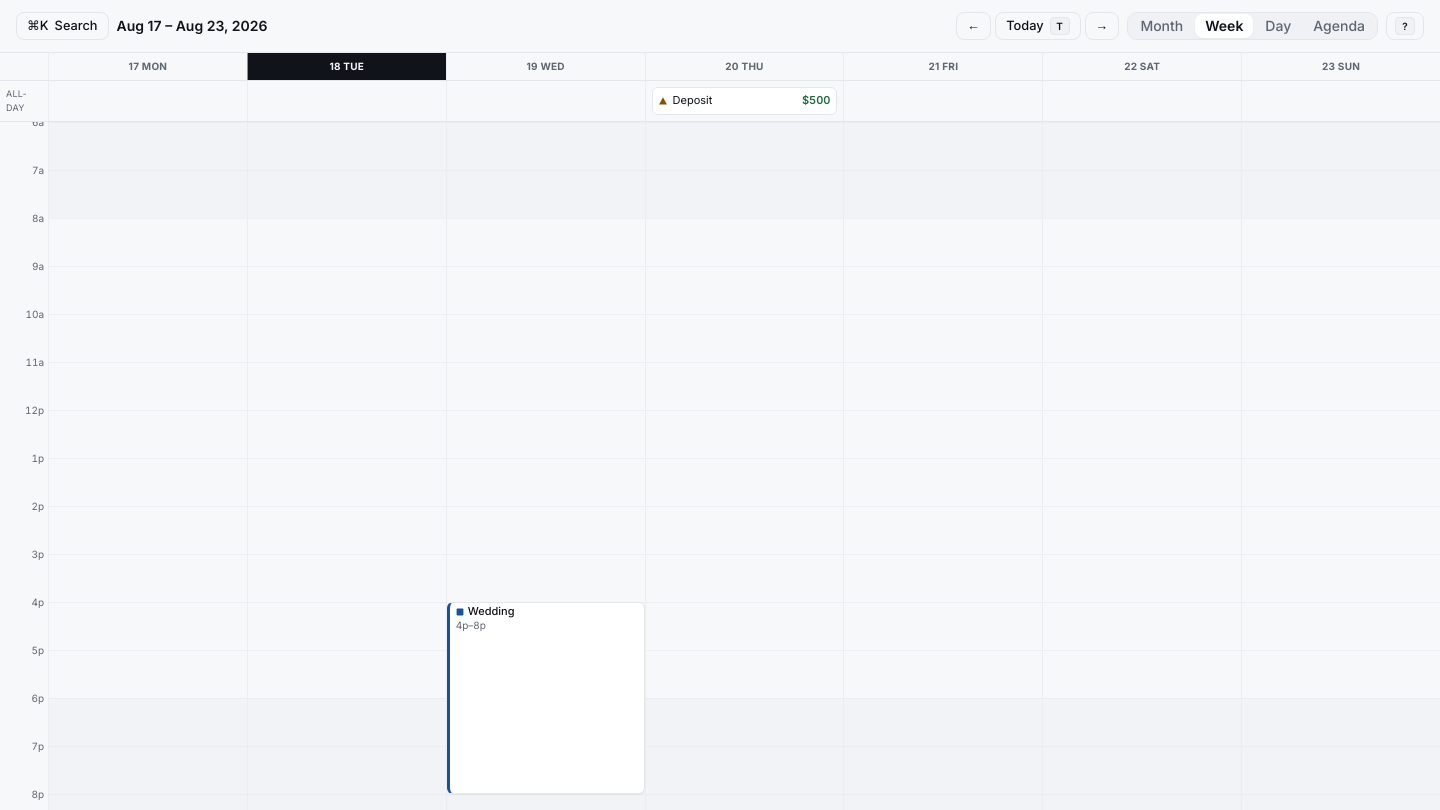
Test case: CalendarCanvas › opens the command palette with ⌘K and offers a jump-to-date
Press k
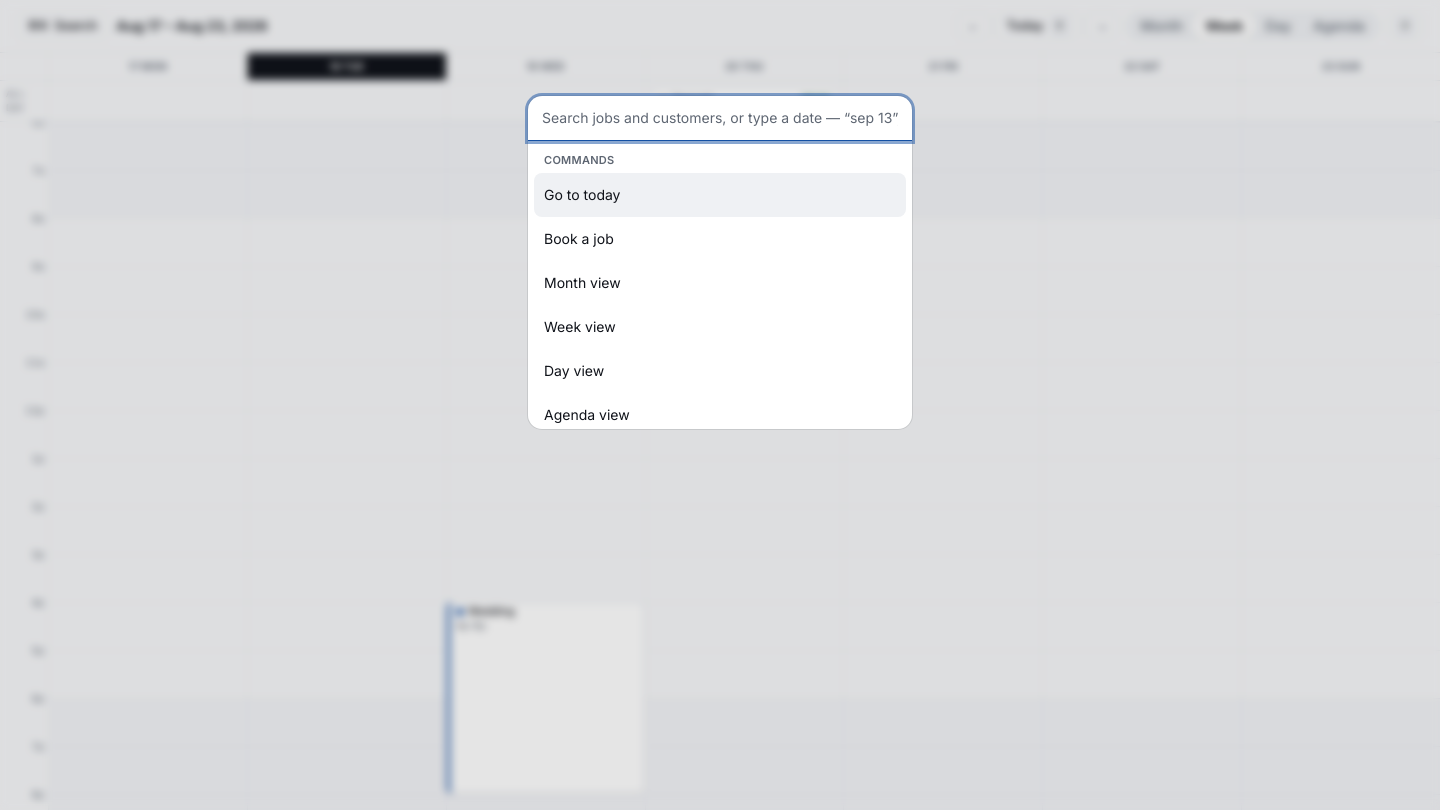
Replace the text in the dropdown with "2026-08-25". click: point(720, 118)
box: [528,96,912,141]
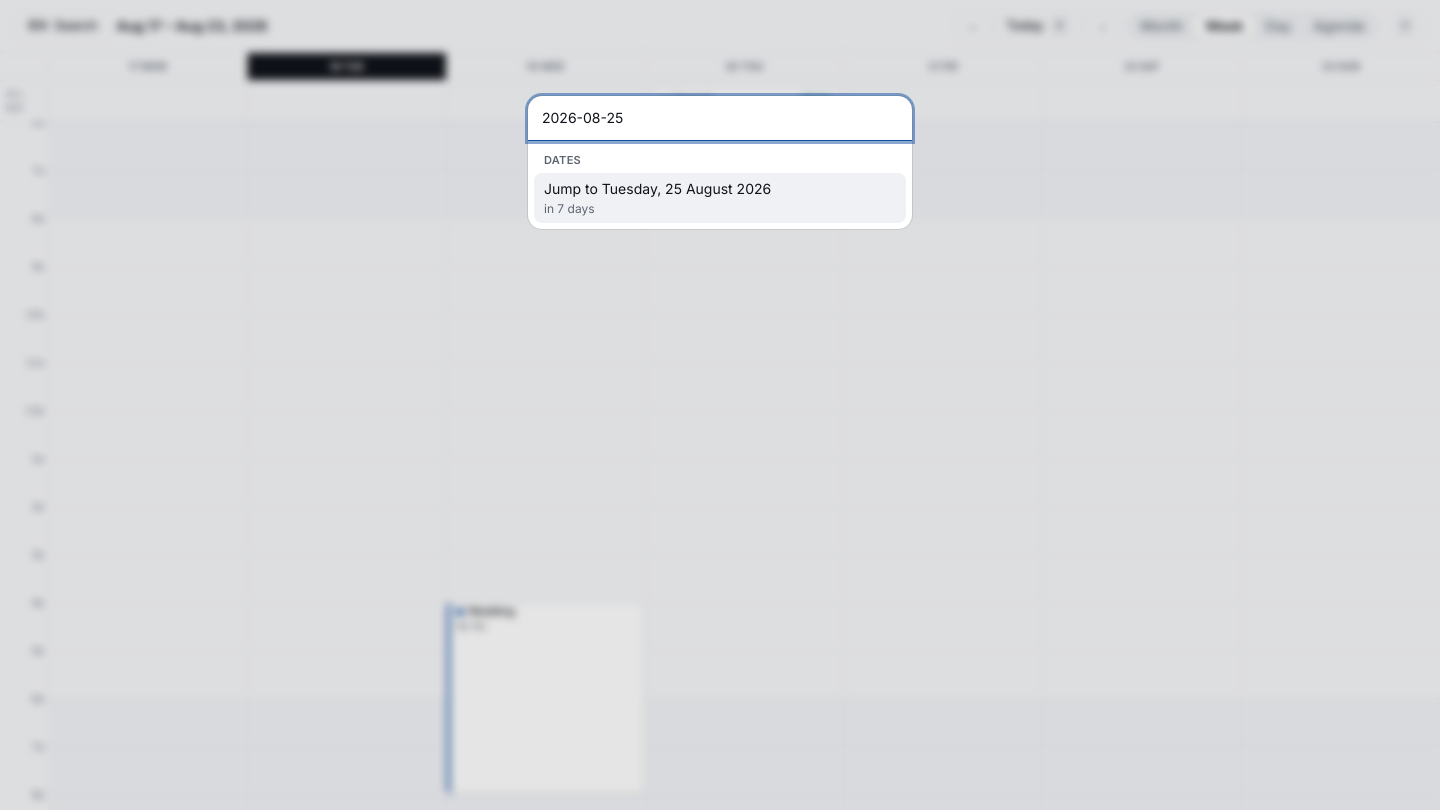
Result: the text "Jump to Tuesday, 25 August 2026" is shown at [544,180,771,197]
